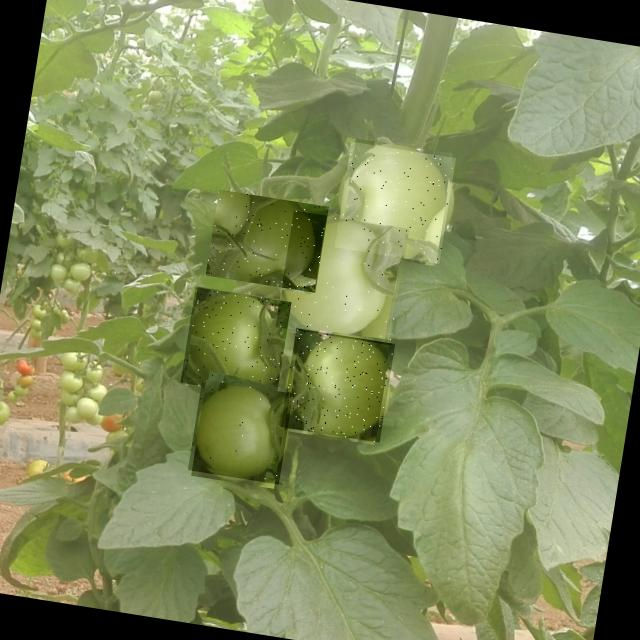Unripe Tomato: (276, 210, 410, 346), (335, 142, 456, 264), (281, 328, 395, 442), (205, 190, 328, 293), (180, 287, 292, 398), (188, 380, 293, 484)
